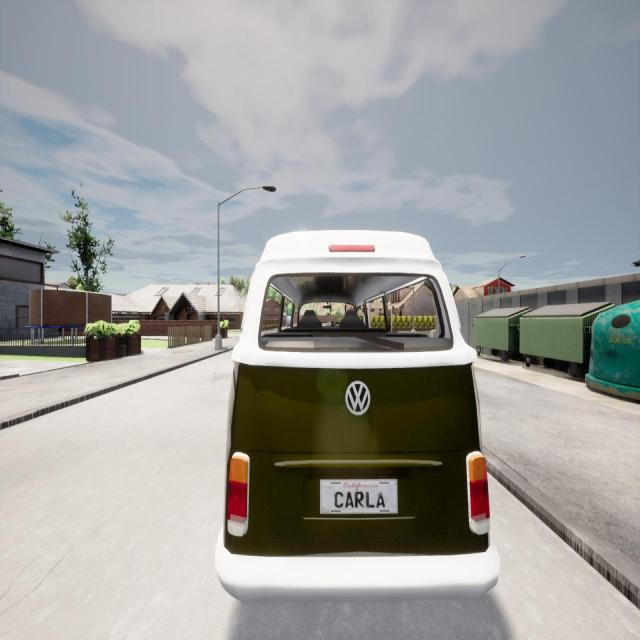Vehicle: (216, 231, 500, 600)
traffic_light: (392, 306, 395, 314)
